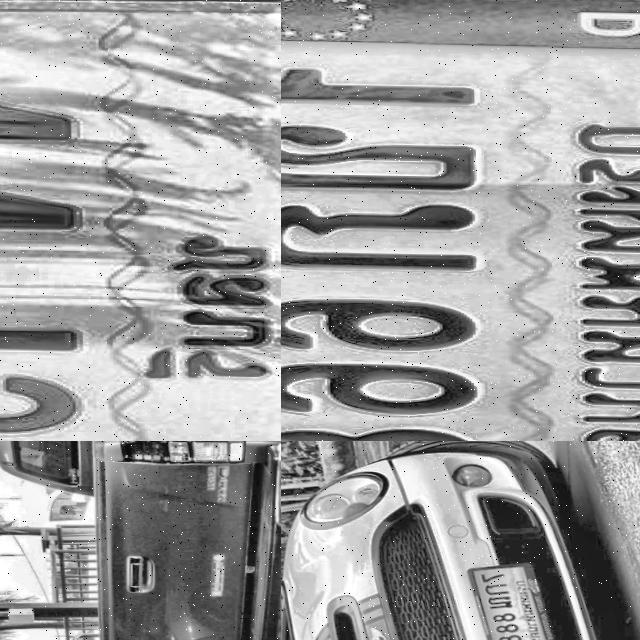license-plate: (281, 0, 640, 441), (0, 0, 281, 441), (461, 563, 551, 640)
